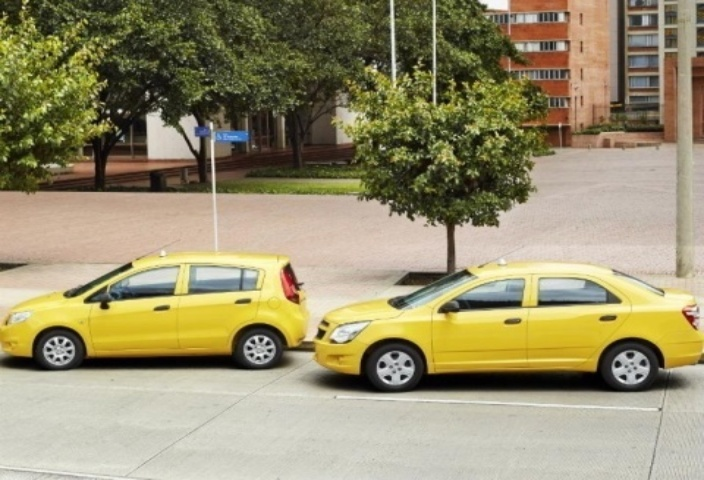taxi: (317, 257, 704, 414), (25, 240, 307, 370)
